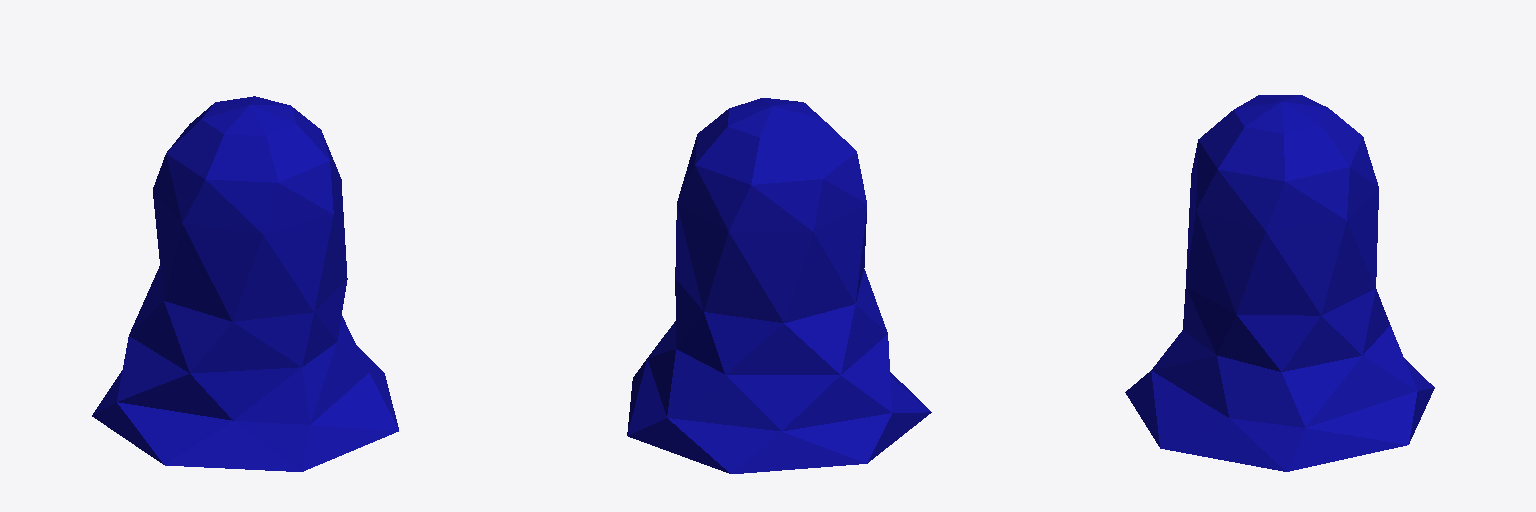
Rendered from ghost.obj.
The picture shows the model from 3 angles: view 1: azimuth 30°, elevation 25°; view 2: azimuth 150°, elevation 25°; view 3: azimuth 270°, elevation 25°; orthographic projection.
Visible parts, largest first — view 1: Capsule001; view 2: Capsule001; view 3: Capsule001.
Boxes of the visible parts, box(x1,y1,x2,y2) form: Capsule001: box(92, 96, 398, 471); Capsule001: box(627, 98, 931, 473); Capsule001: box(1125, 95, 1434, 471).
Size of the model in its own units: 24.97 by 27.46 by 25.4.